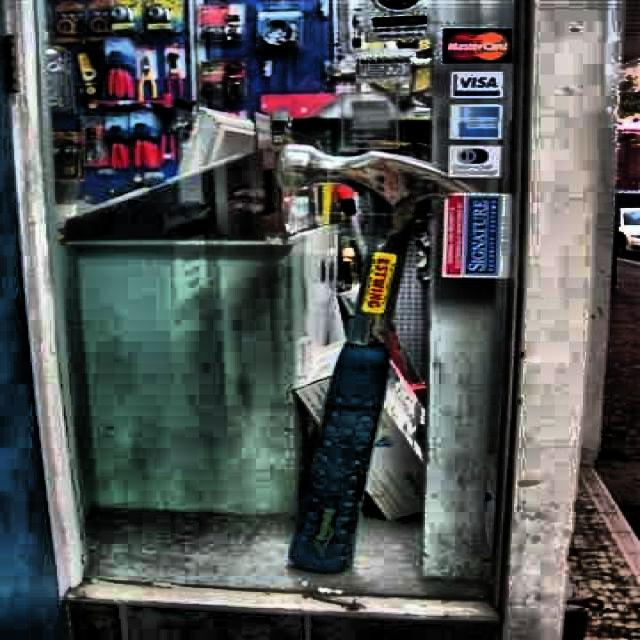hammer: (278, 139, 476, 571)
